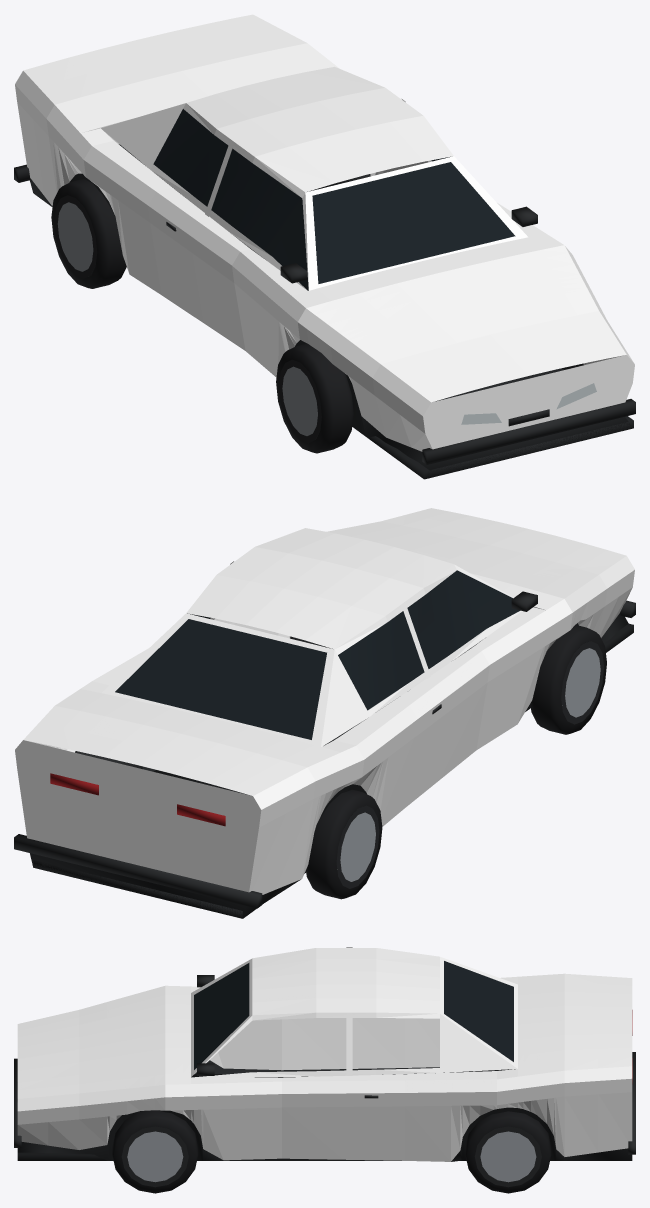
Rendered from hayase_cicatriz.glb.
The picture shows the model from 3 angles, top to bottom: view 1: azimuth 30°, elevation 25°; view 2: azimuth 150°, elevation 25°; view 3: azimuth 270°, elevation 25°; orthographic projection. The views are drawn at different scales.
Visible parts, largest first — view 1: Body_Paint, Body_Details, Mount_FrontLeft_Wheel_Details, Mount_RearLeft_Wheel_Details; view 2: Body_Paint, Body_Details, Mount_RearLeft_Wheel_Details, Mount_FrontLeft_Wheel_Details; view 3: Body_Paint, Body_Details, Mount_FrontRight_Wheel_Details, Mount_RearRight_Wheel_Details.
Boxes of the visible parts, box(x1,y1,x2,y2) form: Body_Paint: box(15, 14, 634, 451); Body_Details: box(14, 109, 635, 479); Mount_FrontLeft_Wheel_Details: box(276, 343, 353, 453); Mount_RearLeft_Wheel_Details: box(51, 179, 126, 288); Body_Paint: box(15, 508, 634, 894); Body_Details: box(14, 570, 635, 918); Mount_RearLeft_Wheel_Details: box(306, 789, 382, 899); Mount_FrontLeft_Wheel_Details: box(530, 625, 606, 734); Body_Paint: box(17, 947, 632, 1161); Body_Details: box(14, 961, 635, 1161); Mount_FrontRight_Wheel_Details: box(112, 1110, 198, 1193); Mount_RearRight_Wheel_Details: box(465, 1111, 551, 1193).
Size of the model in its own units: 1.87 by 1.32 by 4.55.
Materials: 2 (1 with a texture image).
